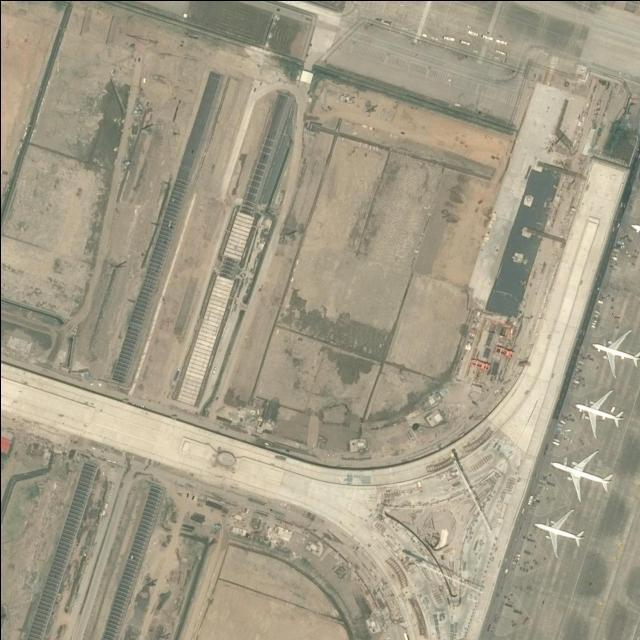Aircraft: (550, 448, 614, 501), (574, 387, 628, 437), (535, 508, 588, 557), (592, 328, 640, 379)
